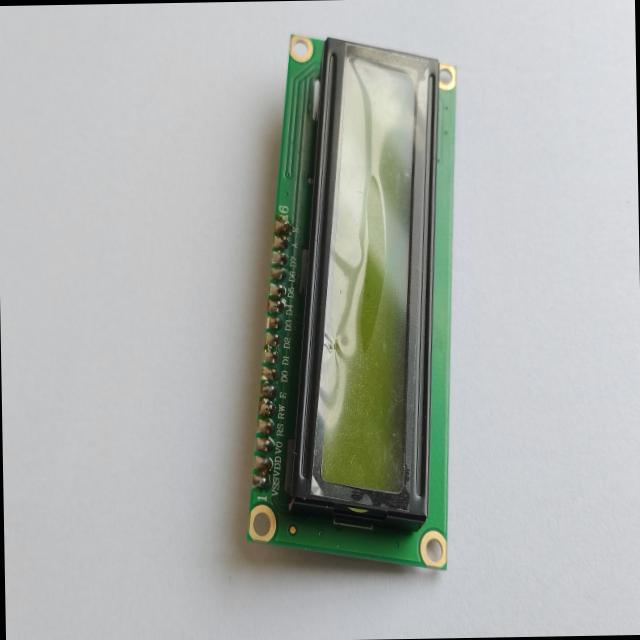lcd: (236, 29, 465, 574)
